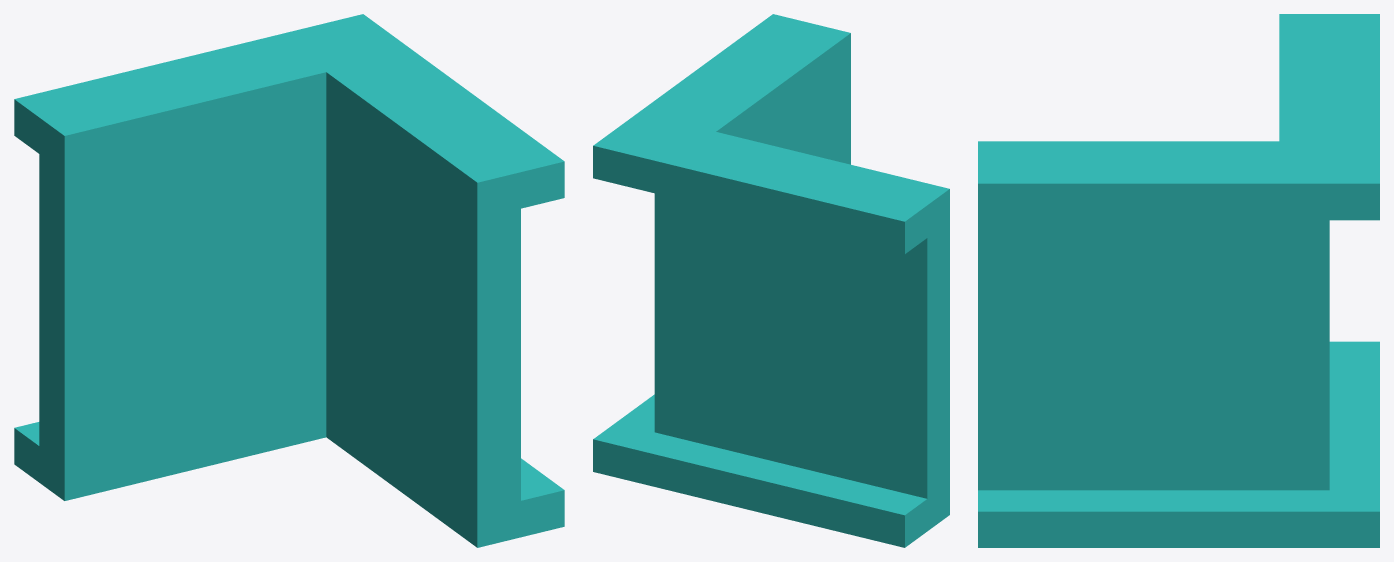
Rendered from Rooms_Wall_Extra_ConerIn_A.FBX.
3 renders of one model, left to right at view 1: azimuth 30°, elevation 25°; view 2: azimuth 150°, elevation 25°; view 3: azimuth 270°, elevation 25°, orthographic. The views are drawn at different scales.
Visible parts, largest first — view 1: Rooms_Wall_Extra_ConerIn_A; view 2: Rooms_Wall_Extra_ConerIn_A; view 3: Rooms_Wall_Extra_ConerIn_A.
Part boxes in pixels (left/top/right/bottom): Rooms_Wall_Extra_ConerIn_A: left=14, top=14, right=564, bottom=547; Rooms_Wall_Extra_ConerIn_A: left=593, top=14, right=949, bottom=547; Rooms_Wall_Extra_ConerIn_A: left=978, top=14, right=1379, bottom=547.
Bounding box in the file's own units: 200 × 200 × 200.
